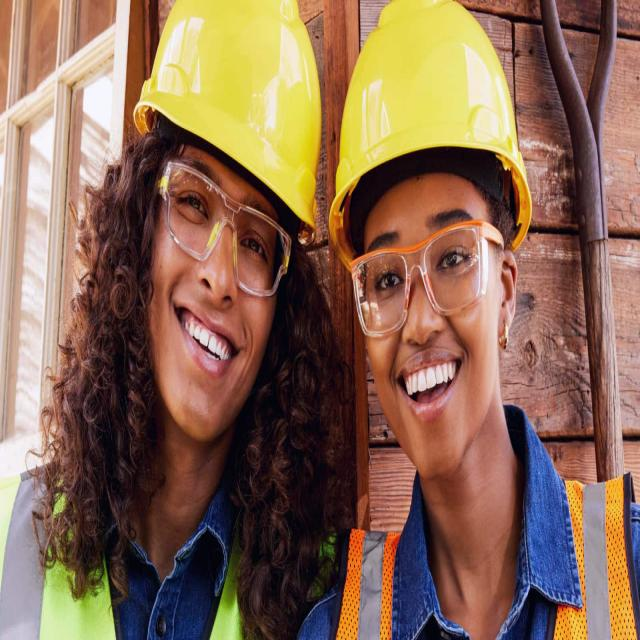Helmet: (326, 0, 537, 253), (126, 0, 322, 242)
Protective Glasses: (333, 210, 510, 344), (145, 158, 299, 312)
